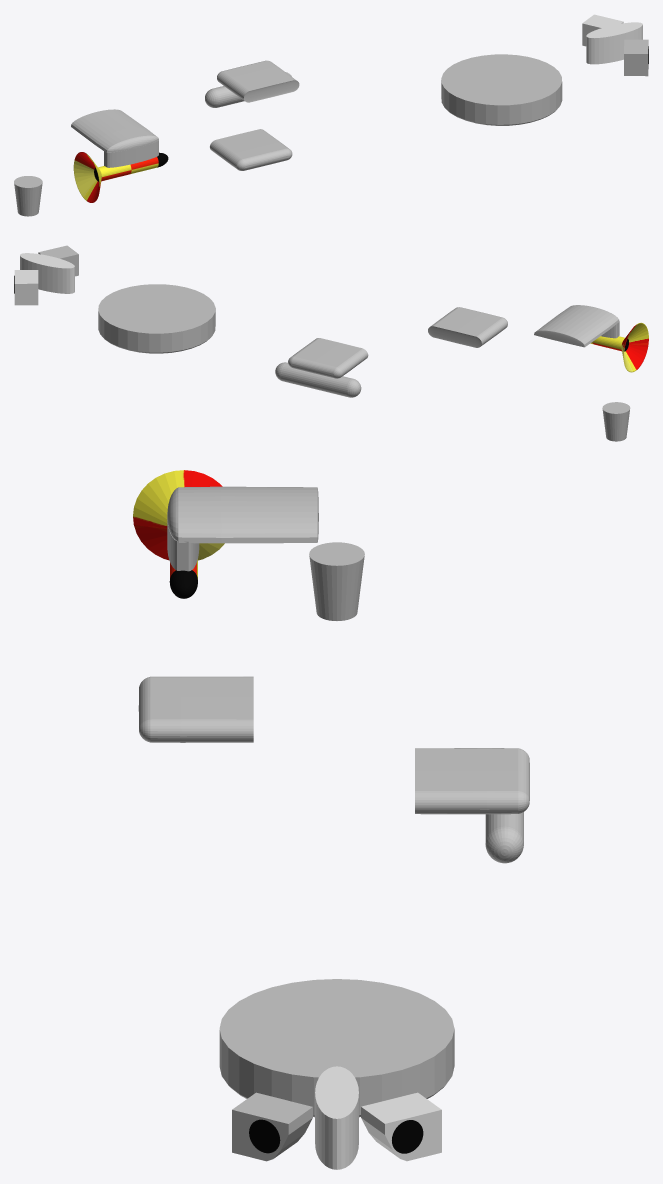
3 views of the same model, one above another, from view 1: azimuth 30°, elevation 25°; view 2: azimuth 150°, elevation 25°; view 3: azimuth 270°, elevation 25° (orthographic). The views are drawn at different scales.
Parts seen in each view (by area): view 1: 円柱, 球.002, 球, 球.001, 円柱.002, 円柱.005, 円柱.006, 立方体, 円柱.003, 円柱.004, 円柱.001, 立方体.001; view 2: 円柱, 球.002, 球, 球.001, 円柱.002, 円柱.001, 円柱.005, 円柱.006, 立方体.001, 立方体, 円柱.004; view 3: 円柱, 球.002, 球, 球.001, 円柱.002, 円柱.006, 円柱.005, 立方体, 立方体.001, 円柱.001.
Part boxes in pixels (box(x1,y1,x2,y2)): 円柱: box(441, 54, 562, 125); 球.002: box(71, 109, 158, 152); 球: box(210, 129, 292, 170); 球.001: box(217, 60, 299, 102); 円柱.002: box(586, 22, 642, 64); 円柱.005: box(73, 152, 101, 202); 円柱.006: box(14, 176, 42, 216); 立方体: box(624, 39, 648, 76); 円柱.003: box(104, 140, 158, 167); 円柱.004: box(94, 157, 158, 181); 円柱.001: box(205, 72, 291, 107); 立方体.001: box(582, 14, 623, 46); 円柱: box(98, 284, 215, 353); 球.002: box(534, 305, 619, 347); 球: box(428, 307, 507, 347); 球.001: box(288, 338, 368, 378); 円柱.002: box(20, 253, 74, 293); 円柱.001: box(275, 362, 361, 397); 円柱.005: box(621, 322, 648, 372); 円柱.006: box(602, 402, 630, 441); 立方体.001: box(14, 270, 38, 305); 立方体: box(38, 245, 78, 276); 円柱.004: box(590, 336, 628, 351); 円柱: box(219, 979, 454, 1117); 球.002: box(167, 486, 318, 543); 球: box(138, 676, 253, 742); 球.001: box(415, 748, 529, 814); 円柱.002: box(315, 1066, 358, 1169); 円柱.006: box(309, 542, 364, 620); 円柱.005: box(133, 470, 224, 560); 立方体: box(232, 1092, 312, 1161); 立方体.001: box(361, 1092, 441, 1161); 円柱.001: box(485, 812, 523, 863).
Size of the model in its own units: 9.61 by 1.4 by 2.72.
Materials: 14 (2 with a texture image).
